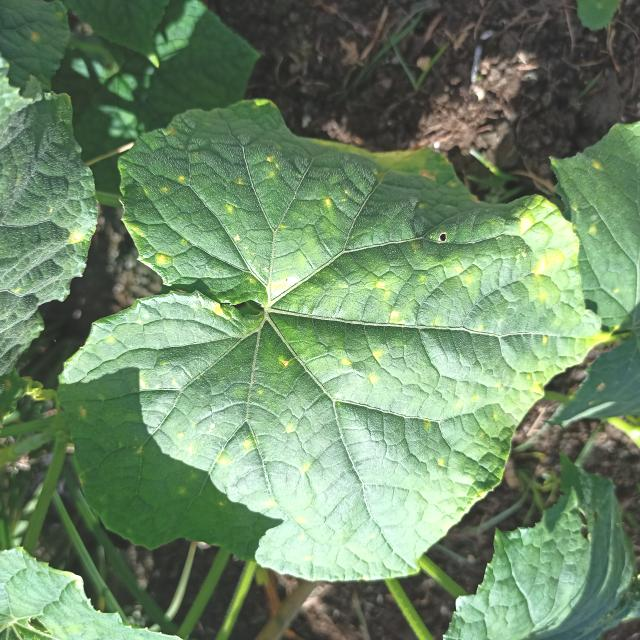disease_cucumber: (356, 186, 579, 430), (160, 396, 326, 536), (142, 162, 240, 272)
